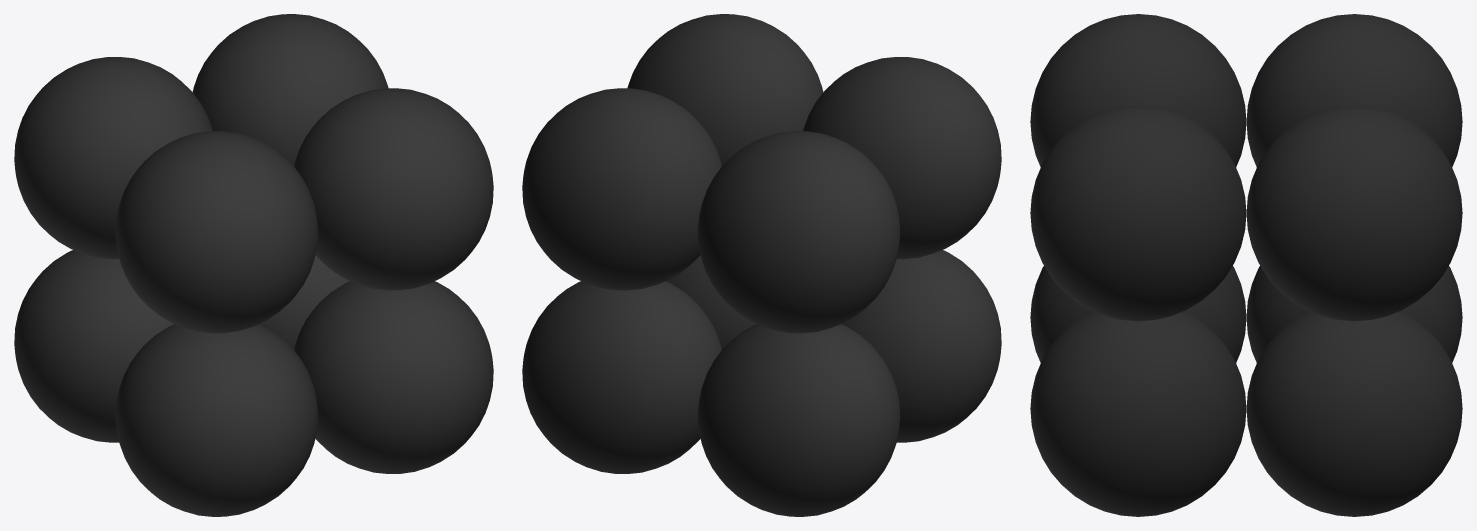
Rendered from solid_state_qn_002.glb.
3 renders of one model, left to right at view 1: azimuth 30°, elevation 25°; view 2: azimuth 150°, elevation 25°; view 3: azimuth 270°, elevation 25°, orthographic. The views are drawn at different scales.
Visible parts, largest first — view 1: Icosphere.039, Icosphere.043, Icosphere.038, Icosphere.042, Icosphere.036, Icosphere.040, Icosphere.037, Icosphere.041; view 2: Icosphere.036, Icosphere.040, Icosphere.037, Icosphere.041, Icosphere.039, Icosphere.043, Icosphere.038, Icosphere.042; view 3: Icosphere.038, Icosphere.037, Icosphere.041, Icosphere.042, Icosphere.036, Icosphere.039, Icosphere.040, Icosphere.043.
Boxes of the visible parts, left/top/right/bottom form: Icosphere.039: left=115, top=131, right=317, bottom=333; Icosphere.043: left=115, top=324, right=317, bottom=516; Icosphere.038: left=294, top=88, right=493, bottom=290; Icosphere.042: left=294, top=281, right=493, bottom=473; Icosphere.036: left=14, top=57, right=212, bottom=259; Icosphere.040: left=14, top=250, right=173, bottom=442; Icosphere.037: left=192, top=14, right=388, bottom=165; Icosphere.041: left=260, top=255, right=349, bottom=349; Icosphere.036: left=698, top=131, right=900, bottom=333; Icosphere.040: left=698, top=324, right=900, bottom=516; Icosphere.037: left=522, top=88, right=721, bottom=290; Icosphere.041: left=522, top=281, right=721, bottom=473; Icosphere.039: left=803, top=57, right=1001, bottom=259; Icosphere.043: left=842, top=250, right=1001, bottom=442; Icosphere.038: left=627, top=14, right=823, bottom=165; Icosphere.042: left=666, top=255, right=755, bottom=349; Icosphere.038: left=1030, top=105, right=1246, bottom=321; Icosphere.037: left=1246, top=105, right=1462, bottom=321; Icosphere.041: left=1246, top=311, right=1462, bottom=516; Icosphere.042: left=1030, top=311, right=1246, bottom=516; Icosphere.036: left=1246, top=14, right=1462, bottom=167; Icosphere.039: left=1030, top=14, right=1246, bottom=167; Icosphere.040: left=1246, top=266, right=1462, bottom=362; Icosphere.043: left=1030, top=266, right=1246, bottom=362.
Bounding box in the file's own units: 4 × 4 × 4.
Materials: 1 (1 with a texture image).
